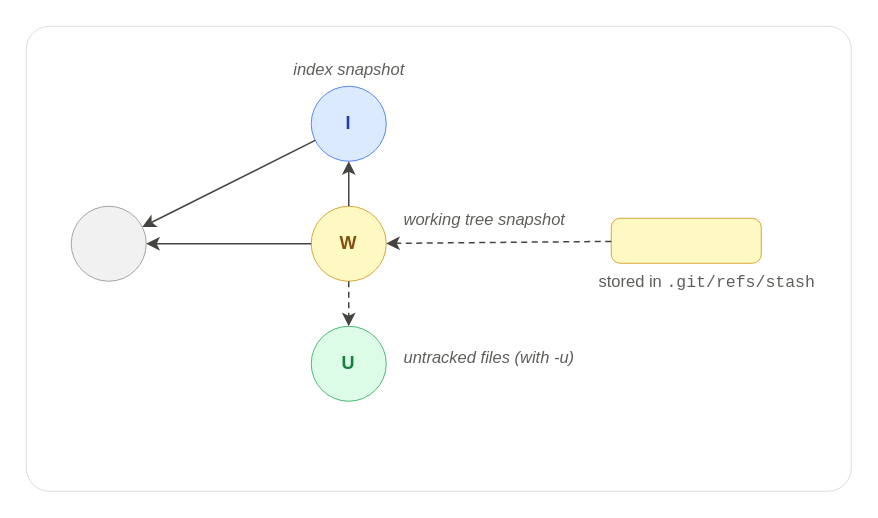
This 878x518 diagram has some shape labels left out. Each missing label, with the box of its shape:
HEAD: (70, 205, 146, 281)
stash@{0}: (610, 217, 761, 263)
